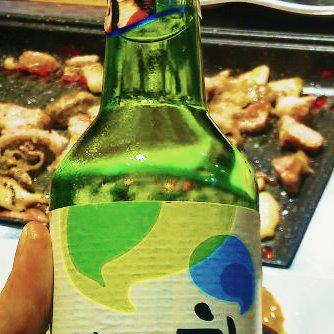soju: (44, 1, 265, 334)
